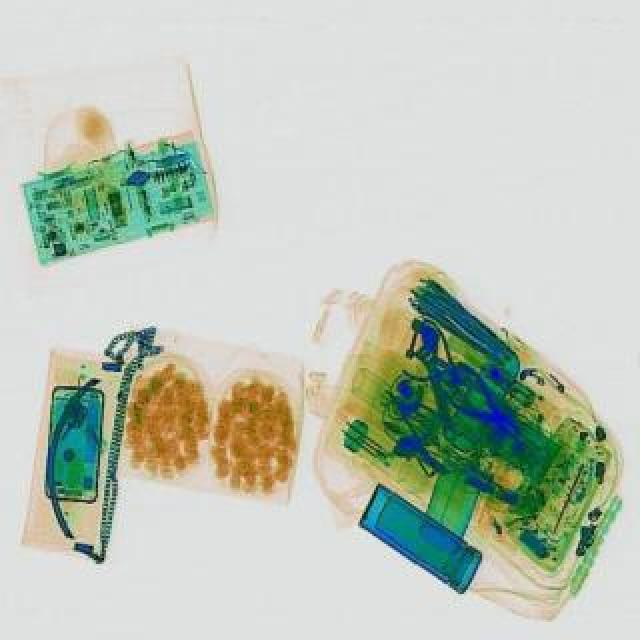scissors: (404, 316, 464, 444)
wrench: (430, 356, 538, 452), (386, 314, 484, 402)
